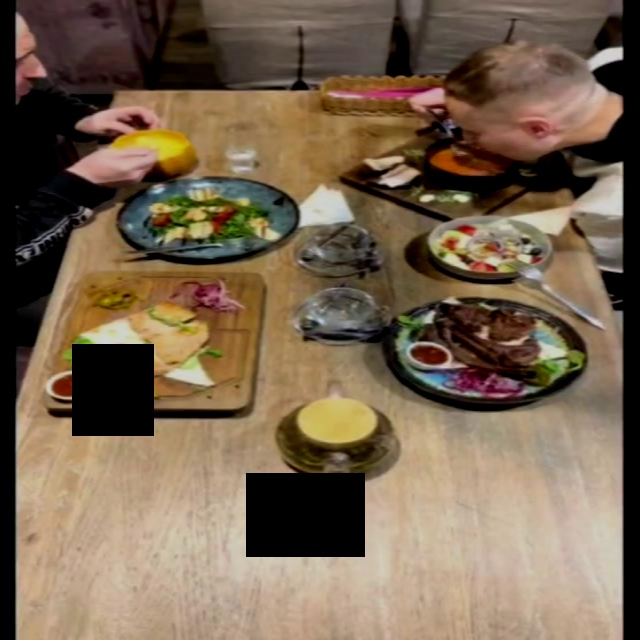meat: (38, 266, 271, 416), (378, 295, 589, 405)
salad: (113, 175, 296, 260), (425, 213, 554, 278)
soup: (337, 131, 567, 220), (108, 128, 197, 178)
tea: (273, 394, 396, 482)
